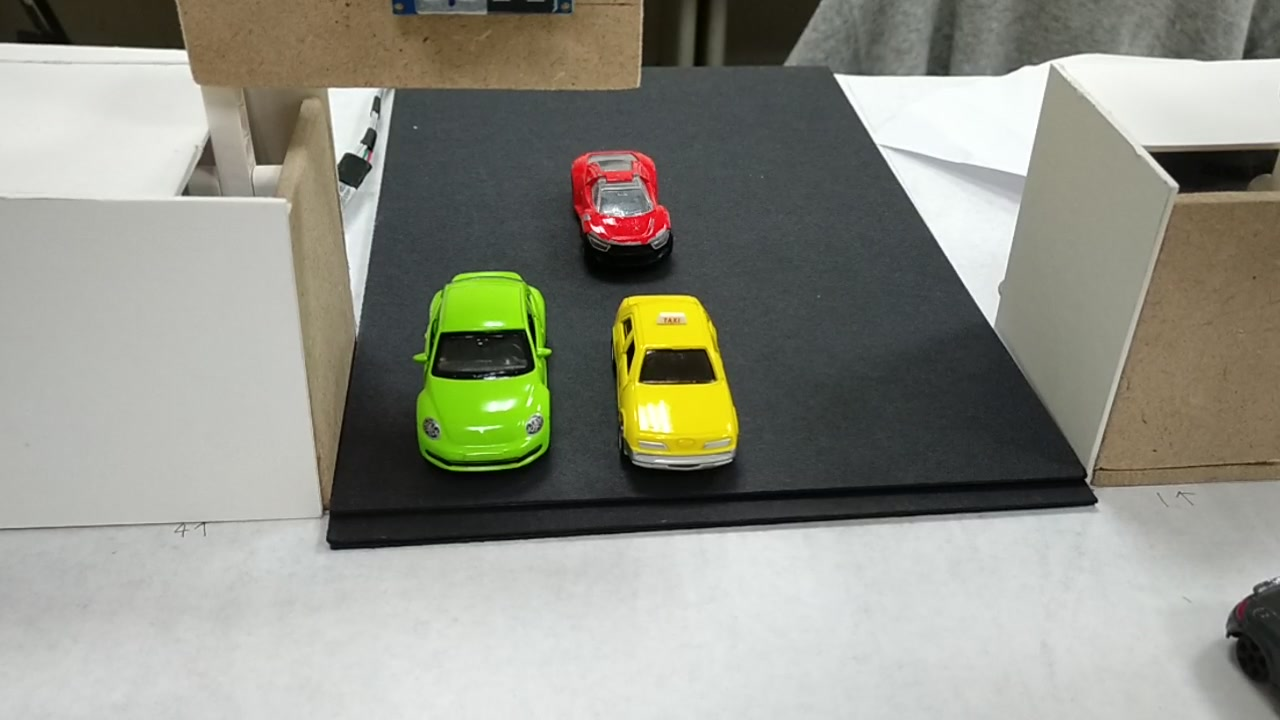car: (423, 274, 549, 470), (611, 293, 739, 475), (573, 152, 671, 253)
